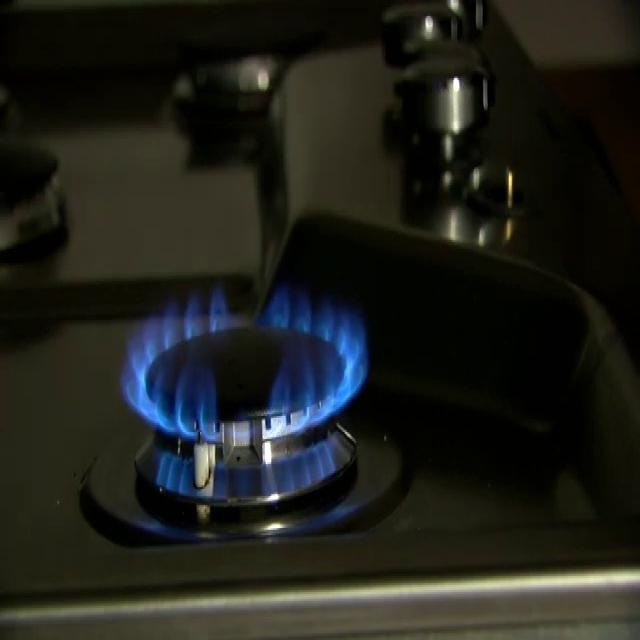fire: (99, 230, 434, 553)
